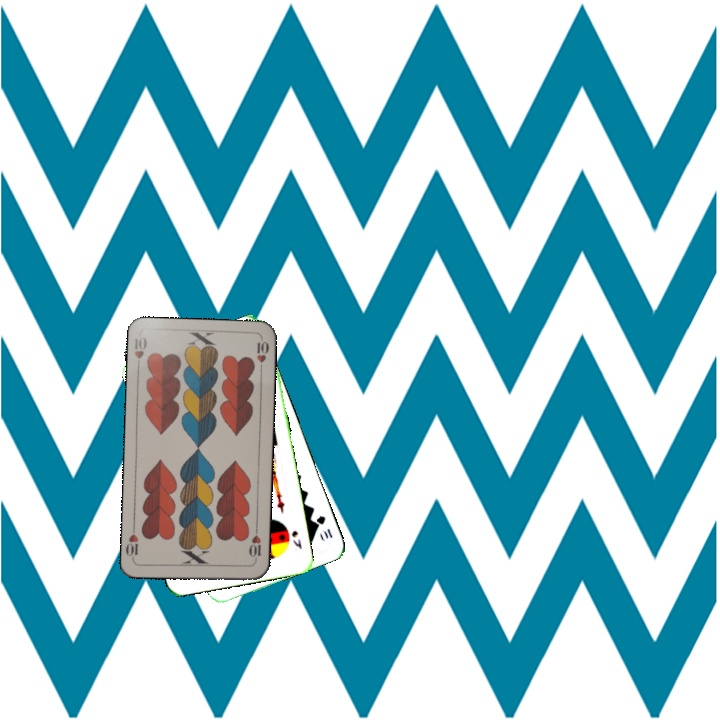G10: (312, 512, 335, 541)
H10: (130, 333, 150, 373), (245, 524, 264, 565)
SK: (288, 526, 304, 552)
